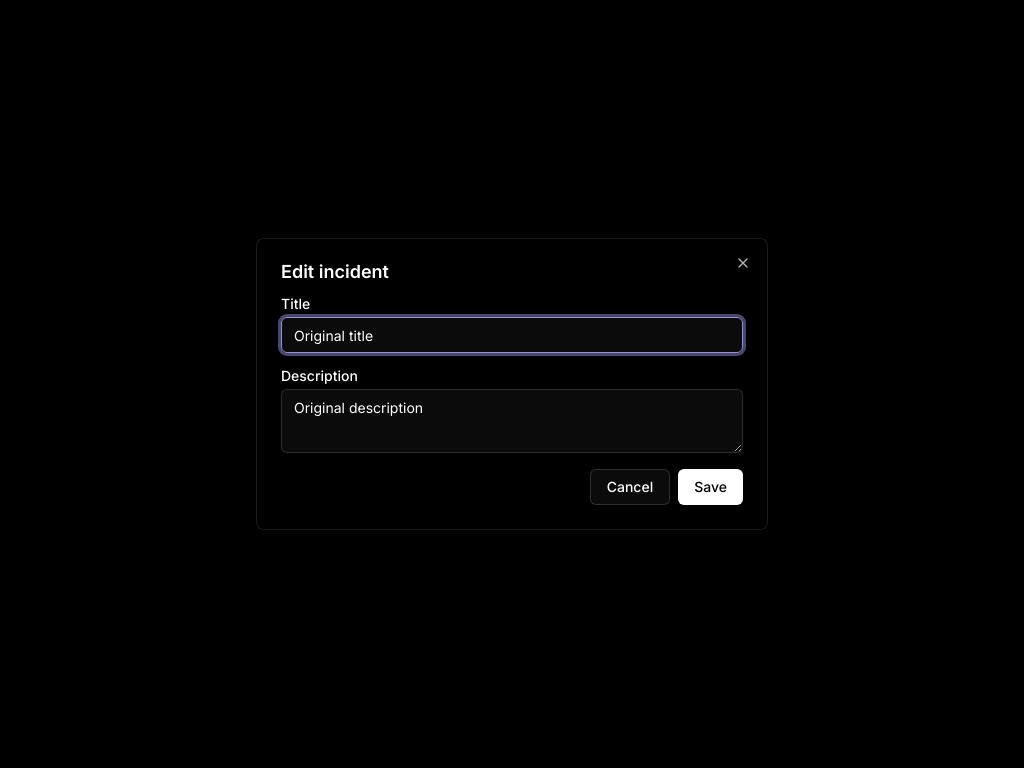
EditIncidentDialog › shows a validation error and blocks submit when title is cleared
The image size is (1024, 768).
Clear the field labelled "Title". click: coordinates (512, 335)
box: x1=281 y1=317 x2=743 y2=353
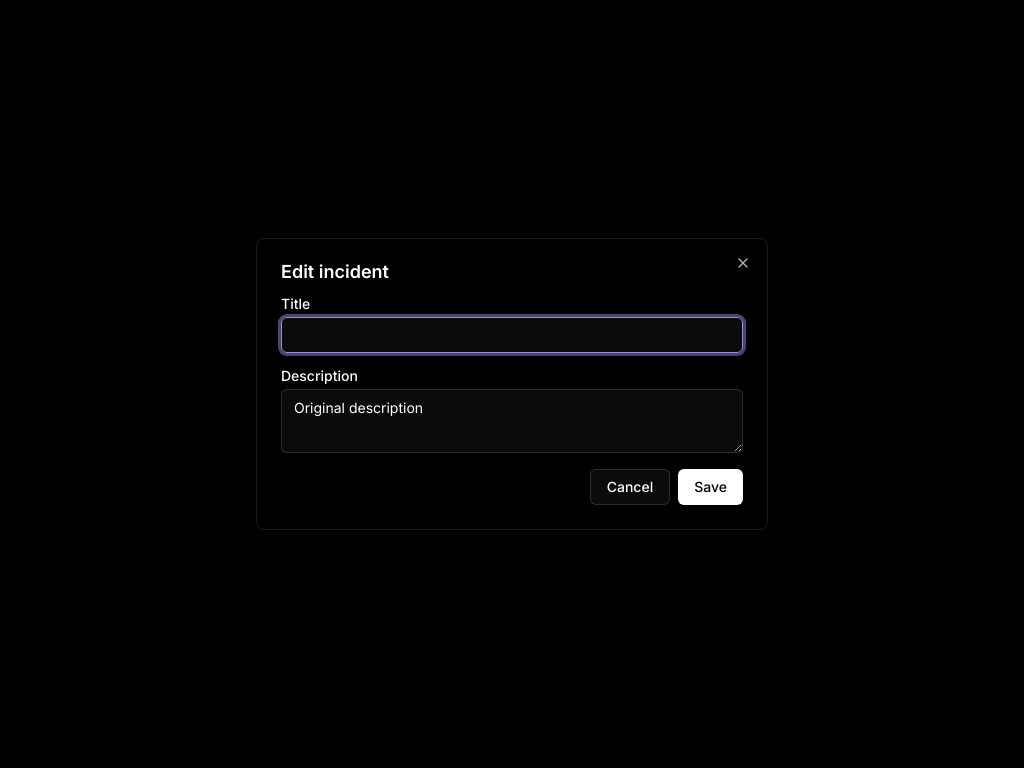
Click the button "Save". click: coordinates (711, 487)
box: x1=678 y1=469 x2=743 y2=505
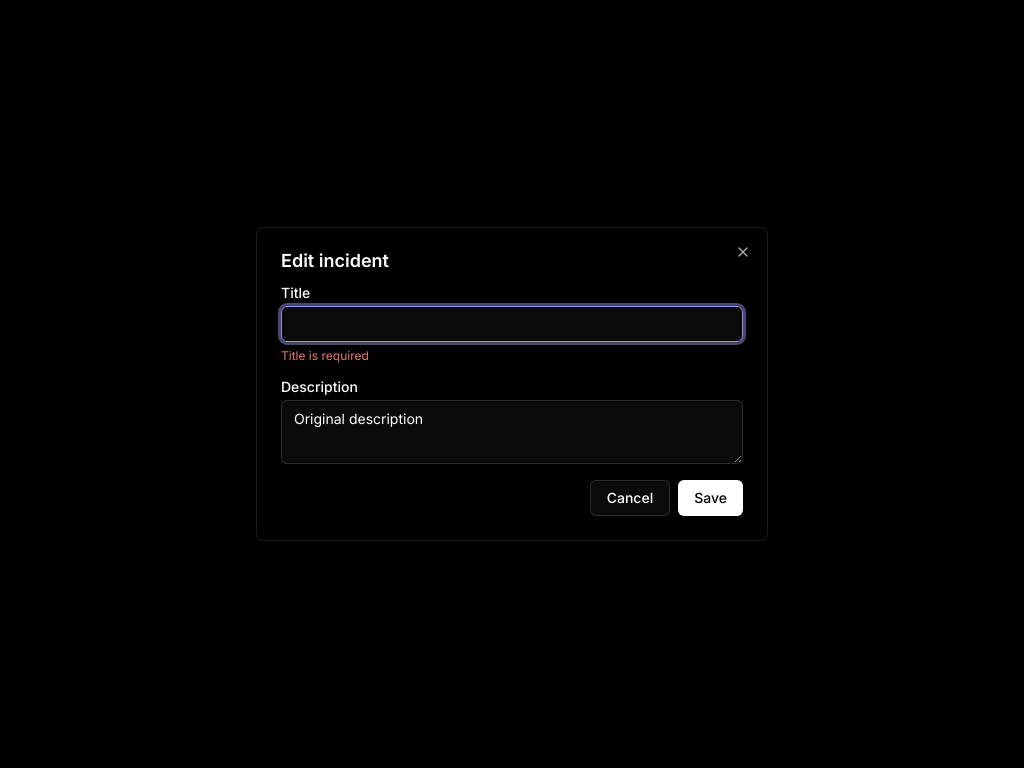
expect the text "Title is required" is shown: met, box x1=281 y1=348 x2=369 y2=363
